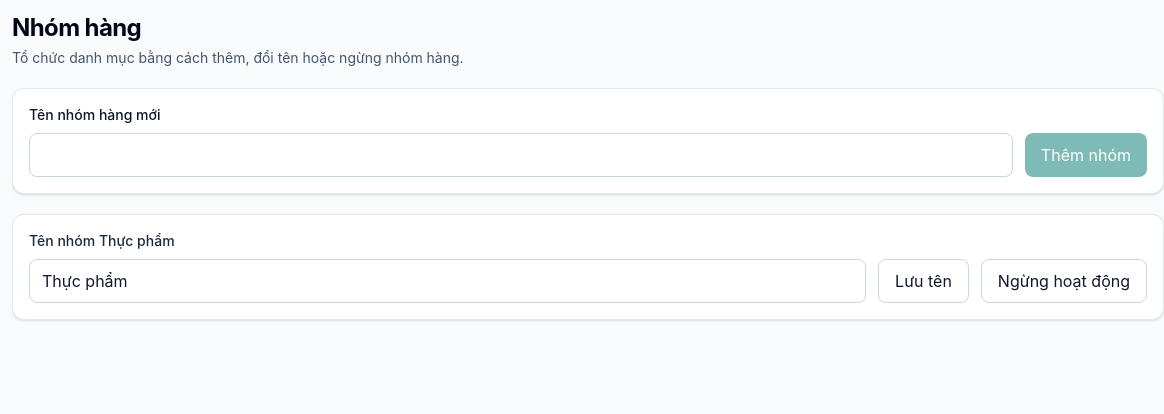
Scenario: CategoryManager › shows a safe Vietnamese error when a category is in use
Click the button with aria-label "Ngừng nhóm Thực phẩm" at coordinates (1064, 281), box x1=981 y1=259 x2=1147 y2=303
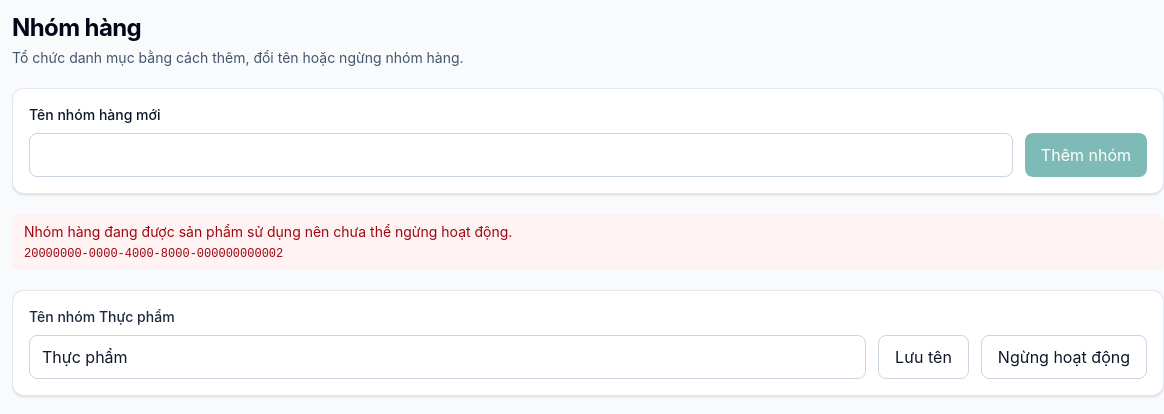
Expected: the text "Nhóm hàng đang được sản phẩm sử dụng nên chưa thể ngừng hoạt động." is shown, x1=24 y1=223 x2=512 y2=240
Expected: the text "20000000-0000-4000-8000-000000000002" is shown, x1=24 y1=247 x2=283 y2=261
